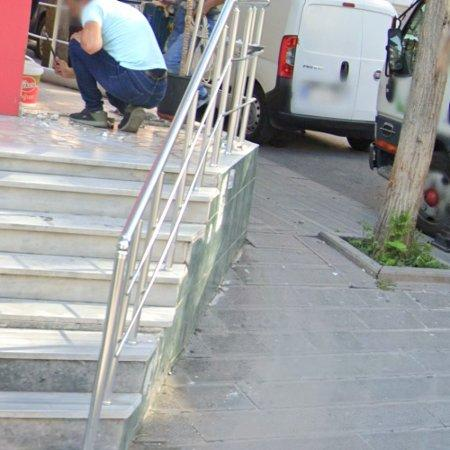stairs: (0, 116, 168, 450), (95, 142, 258, 450)
